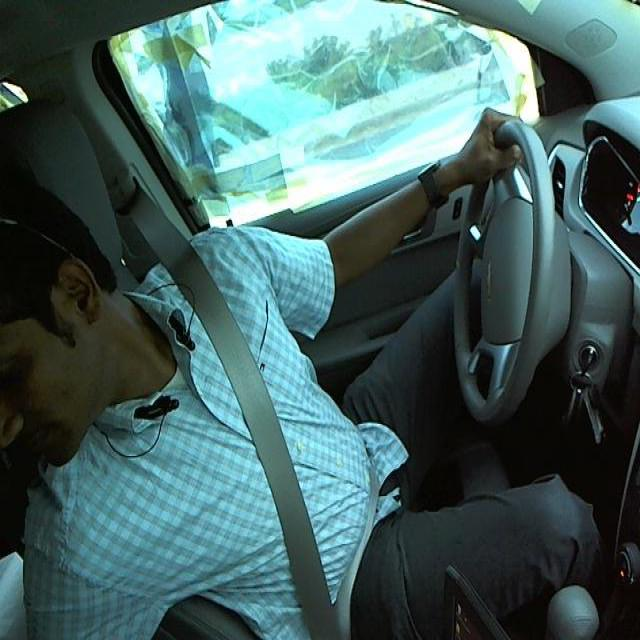seatbelt: (171, 264, 357, 629)
